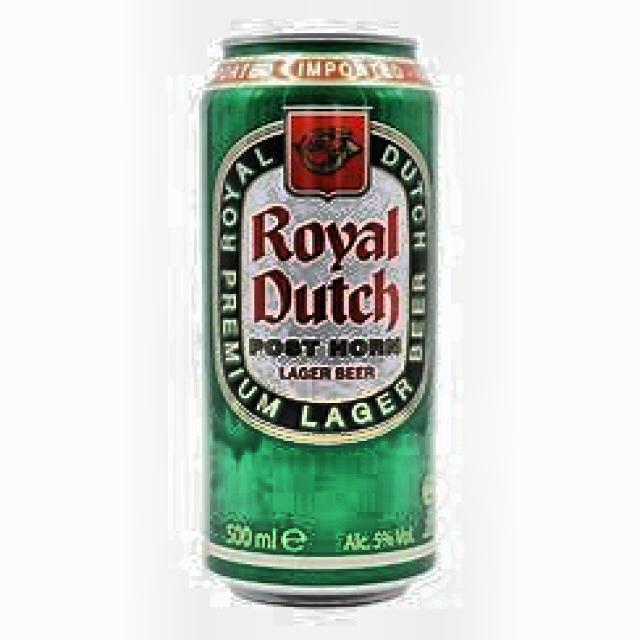Cans: (189, 17, 454, 628)
